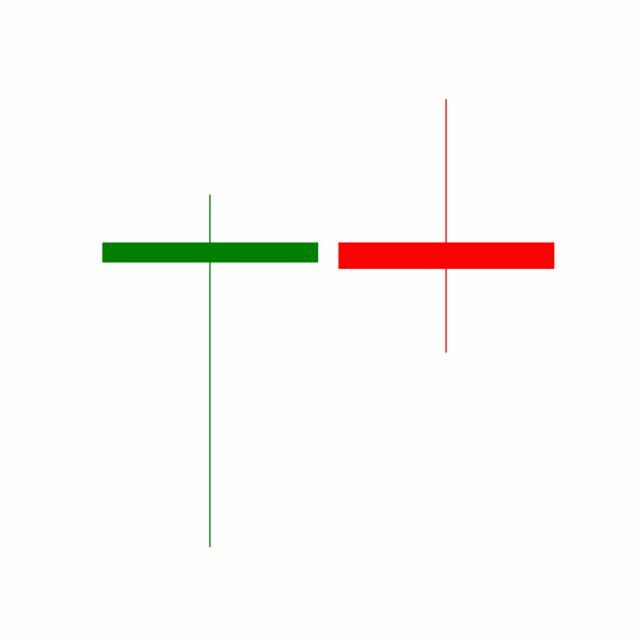Spinning Top: (327, 96, 565, 356)
